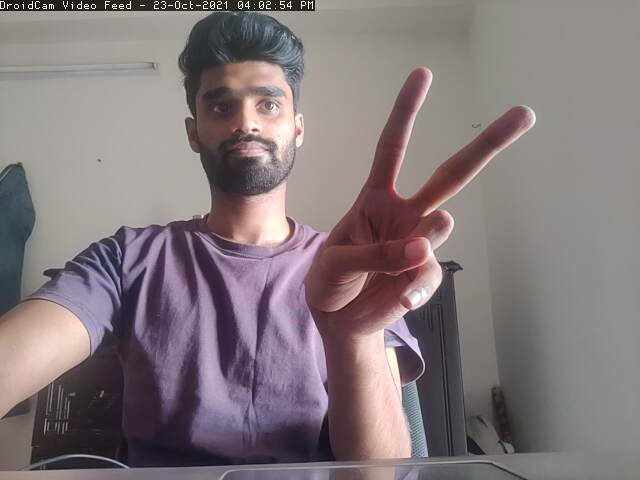Victory: (333, 65, 536, 324)
